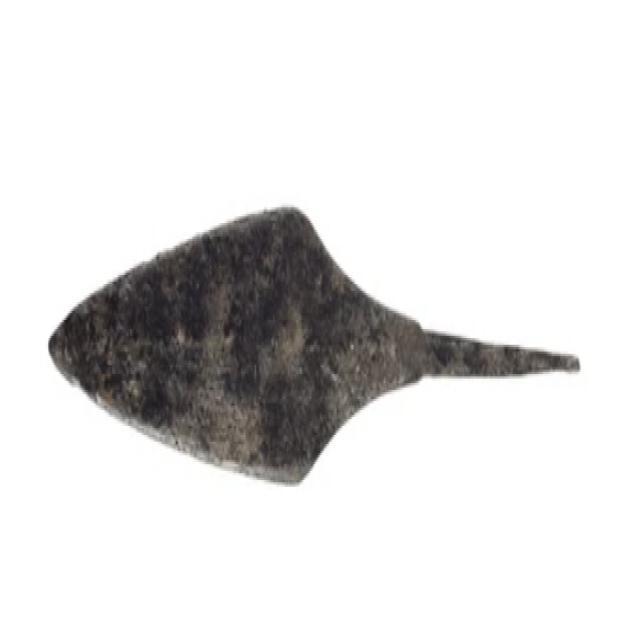spear: (32, 160, 594, 538)
